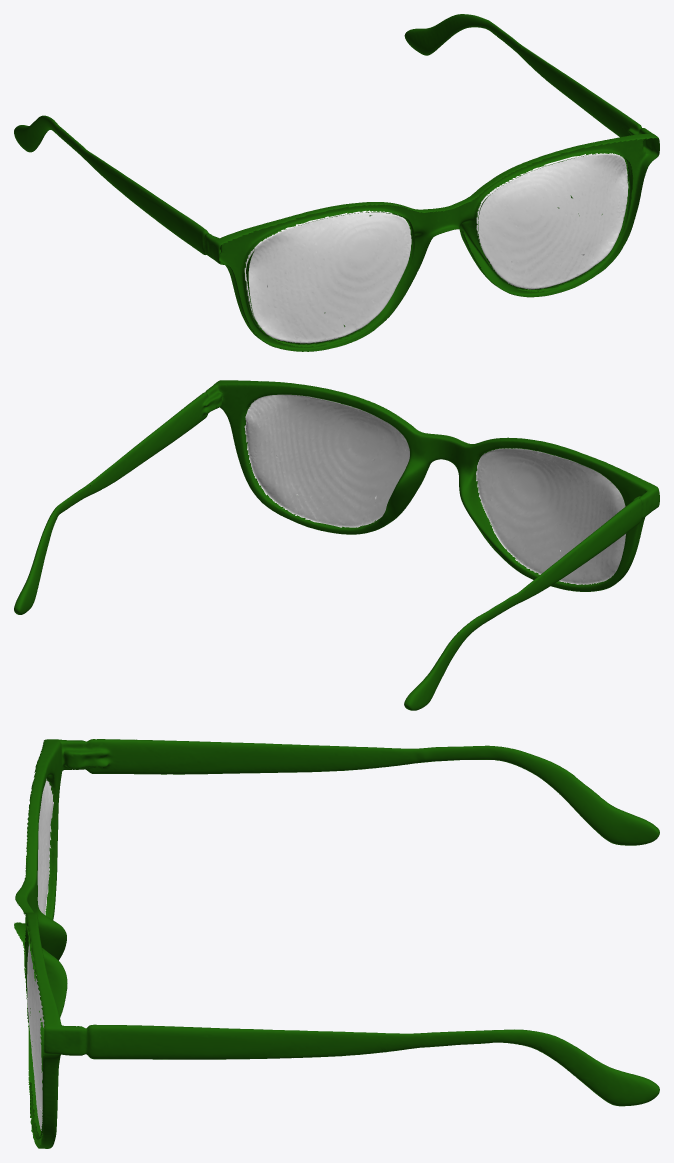
File: testing.glb
The picture shows the model from 3 angles, top to bottom: view 1: azimuth 30°, elevation 25°; view 2: azimuth 150°, elevation 25°; view 3: azimuth 270°, elevation 25°; orthographic projection. The views are drawn at different scales.
Parts seen in each view (by area): view 1: Mesh_0, Mesh_0.145, Mesh_0.265; view 2: Mesh_0, Mesh_0.265, Mesh_0.145; view 3: Mesh_0, Mesh_0.265, Mesh_0.145.
Part boxes in pixels (x1,y1,x2,y2): Mesh_0: (14, 14, 659, 351); Mesh_0.145: (244, 210, 411, 343); Mesh_0.265: (476, 153, 628, 289); Mesh_0: (14, 380, 659, 710); Mesh_0.265: (244, 394, 409, 527); Mesh_0.145: (476, 448, 625, 584); Mesh_0: (14, 739, 659, 1148); Mesh_0.265: (27, 944, 44, 1130); Mesh_0.145: (37, 778, 53, 915).
Size of the model in its own units: 2 by 0.6067 by 1.88.
